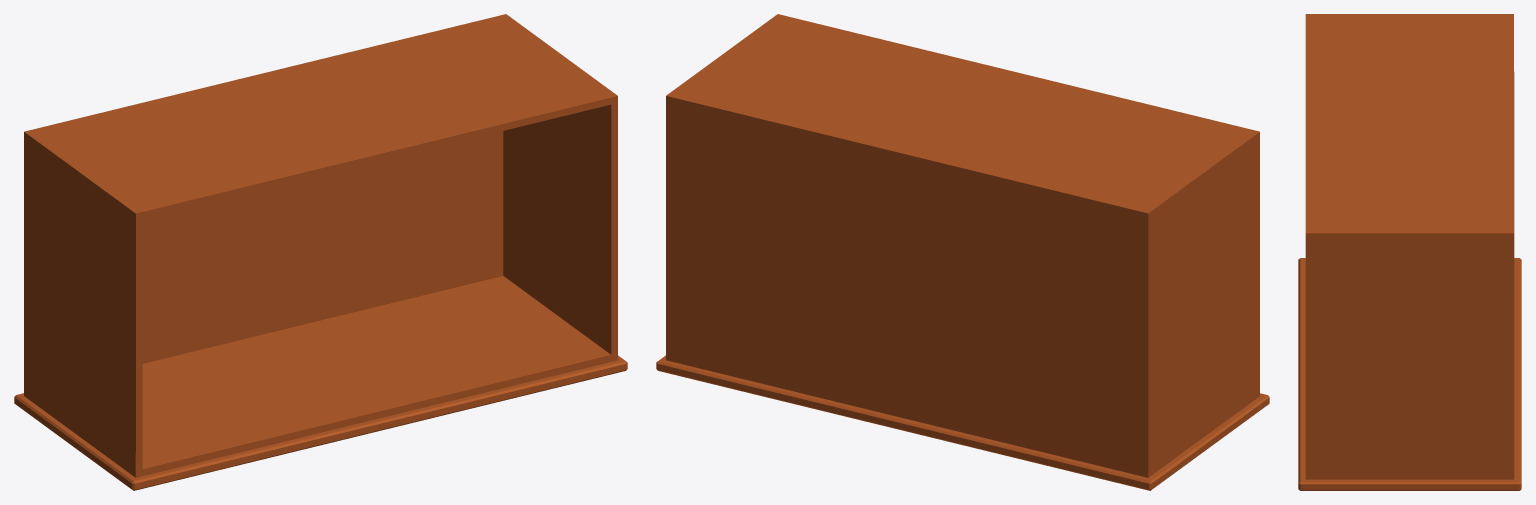
Rendered from DrawermeshDeskDrawer_323_2_3.obj.
The picture shows the model from 3 angles, left to right: view 1: azimuth 30°, elevation 25°; view 2: azimuth 150°, elevation 25°; view 3: azimuth 270°, elevation 25°; orthographic projection. The views are drawn at different scales.
Parts seen in each view (by area): view 1: DeskDrawer_323_2; view 2: DeskDrawer_323_2; view 3: DeskDrawer_323_2.
Boxes of the visible parts, <box> form: DeskDrawer_323_2: <box>14,14,627,490</box>; DeskDrawer_323_2: <box>656,14,1269,490</box>; DeskDrawer_323_2: <box>1298,14,1521,490</box>.
Size of the model in its own units: 0.6326 by 0.3465 by 0.2647.
